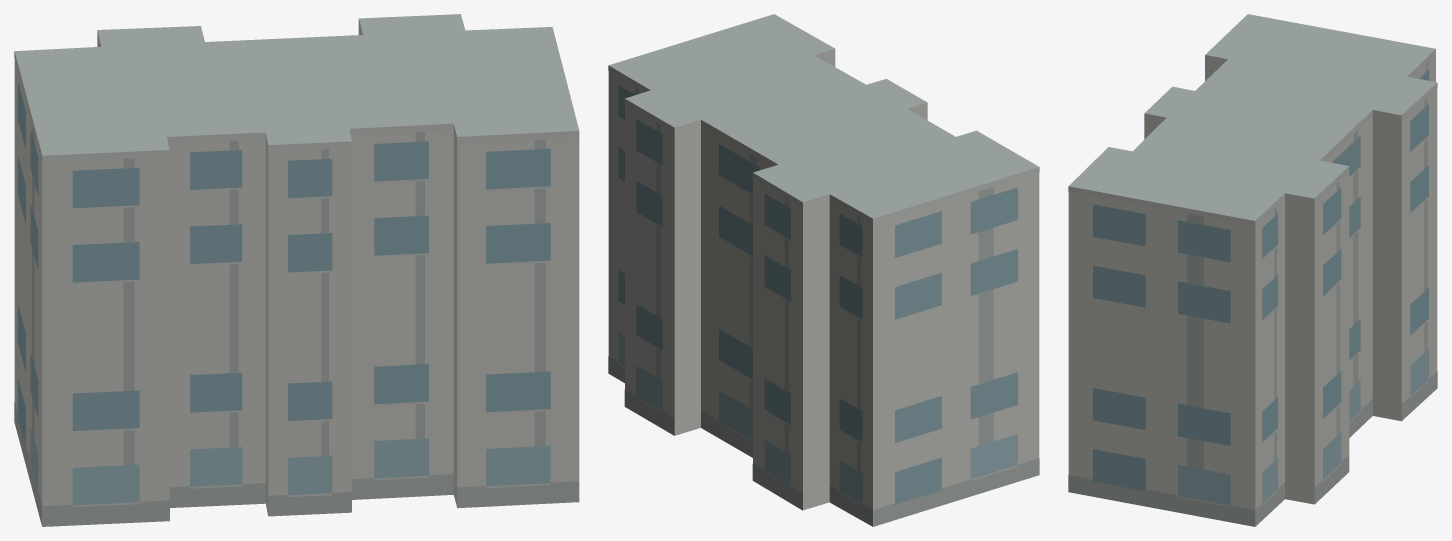
Rendered from survey-upis-33003902.glb.
3 views of the same model, side by side, from view 1: azimuth 30°, elevation 25°; view 2: azimuth 150°, elevation 25°; view 3: azimuth 270°, elevation 25° (orthographic). The views are drawn at different scales.
Parts seen in each view (by area): view 1: survey-upis-33003902.tmp; view 2: survey-upis-33003902.tmp; view 3: survey-upis-33003902.tmp.
Boxes of the visible parts, box(x1,y1,x2,y2) form: survey-upis-33003902.tmp: box(14, 14, 579, 526); survey-upis-33003902.tmp: box(608, 14, 1039, 526); survey-upis-33003902.tmp: box(1068, 14, 1437, 526).
Size of the model in its own units: 18.94 by 13.05 by 14.27.
